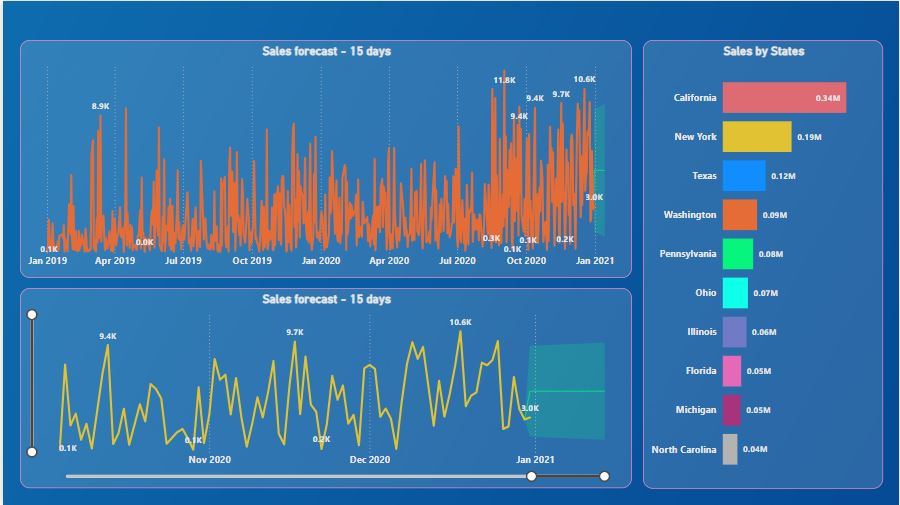

Layout of this report page (visuals, bound fields, positions):
{"tool":"powerbi","page":{"name":"Page 2","canvas":[1280,720],"ordinal":1},"visuals":[{"type":"lineChart","title":"Sales forecast - 15 days","fields":{"Y":["Sum(SuperStore_Sales_Dataset.Sales)"],"Category":["SuperStore_Sales_Dataset.Order Date"]},"box":[23.6,55.6,874.3,340.5],"z":0},{"type":"lineChart","title":"Sales forecast - 15 days","fields":{"Y":["Sum(SuperStore_Sales_Dataset.Sales)"],"Category":["SuperStore_Sales_Dataset.Order Date"]},"box":[23.6,410,874.3,286.3],"z":1000},{"type":"clusteredBarChart","title":"Sales by States","fields":{"Category":["SuperStore_Sales_Dataset.State"],"Y":["Sum(SuperStore_Sales_Dataset.Sales)"]},"box":[914.6,55.6,343.3,640.8],"z":2000}]}

Visuals, with their boxes in screenshot pixels (x1, y1, x2, y2), scaled from the page's 1280x720 canvas onto the 900x505 screenshot:
"Sales forecast - 15 days" lineChart: crop(17, 39, 631, 278)
"Sales forecast - 15 days" lineChart: crop(17, 288, 631, 488)
"Sales by States" clusteredBarChart: crop(643, 39, 884, 488)
